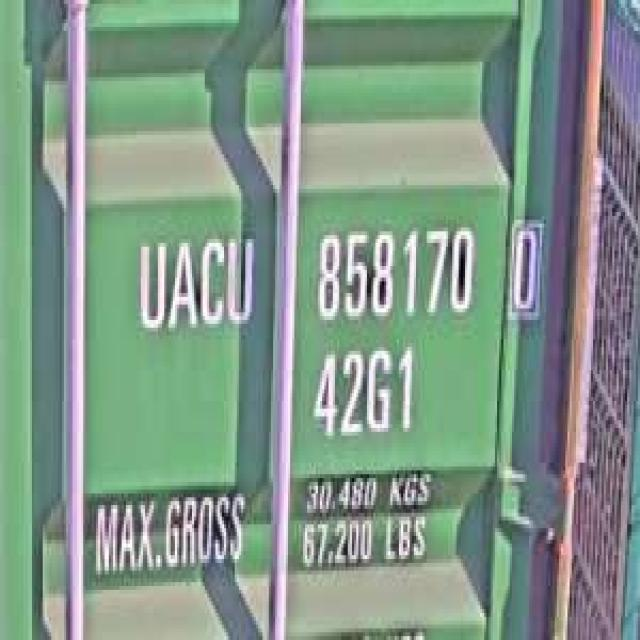dv: (506, 208, 544, 320)
owner: (132, 224, 260, 343)
serial: (307, 212, 478, 328)
size: (307, 339, 420, 451)
